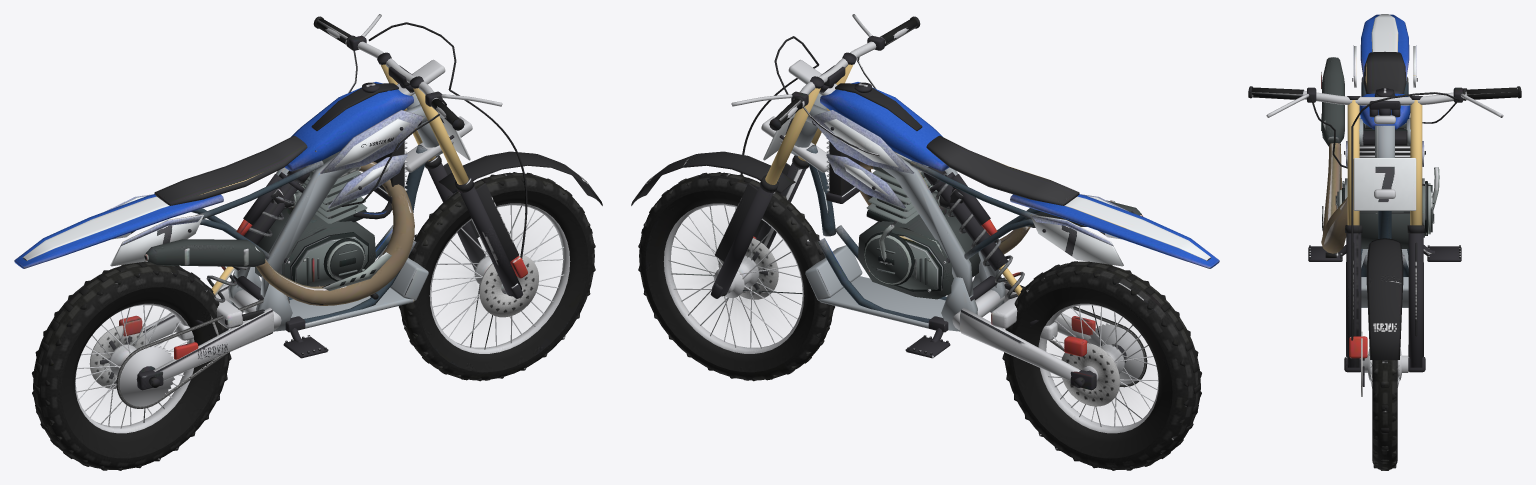
Rendered from bike.glb.
3 views of the same model, side by side, from view 1: azimuth 30°, elevation 25°; view 2: azimuth 150°, elevation 25°; view 3: azimuth 270°, elevation 25° (orthographic). The views are drawn at different scales.
Parts seen in each view (by area): view 1: wheel_rear, bodywork, wheel_front, frame, exhaust, engine, fork_lower, swingarm, fork_upper, handlebar, sprocket_rear, shock_body (+7 smaller); view 2: wheel_rear, bodywork, wheel_front, frame, engine, fork_lower, swingarm, fork_upper, handlebar, wheel_front_blur, wheel_front_spokes, shock_body (+6 smaller); view 3: fork_lower, fork_upper, bodywork, handlebar, exhaust, wheel_front, frame, engine, pegs, brake_hose.
Boxes of the visible parts, <box> form: wheel_rear: <box>32,261,231,470</box>; bodywork: <box>14,82,424,268</box>; wheel_front: <box>398,172,595,381</box>; frame: <box>191,93,442,332</box>; exhaust: <box>144,161,414,305</box>; engine: <box>255,150,378,299</box>; fork_lower: <box>425,151,602,298</box>; swingarm: <box>119,281,281,390</box>; fork_upper: <box>377,52,472,184</box>; handlebar: <box>313,14,502,206</box>; sprocket_rear: <box>117,345,174,406</box>; shock_body: <box>232,167,310,270</box>; wheel_rear: <box>1002,261,1201,470</box>; bodywork: <box>809,82,1219,268</box>; wheel_front: <box>638,172,835,381</box>; frame: <box>791,93,1042,332</box>; engine: <box>858,151,980,299</box>; fork_lower: <box>631,151,808,298</box>; swingarm: <box>952,282,1096,390</box>; fork_upper: <box>761,52,856,184</box>; handlebar: <box>731,14,920,235</box>; wheel_front_blur: <box>695,232,777,321</box>; wheel_front_spokes: <box>668,205,802,348</box>; shock_body: <box>923,167,1007,270</box>; fork_lower: <box>1344,225,1425,372</box>; fork_upper: <box>1347,96,1422,225</box>; bodywork: <box>1344,14,1425,166</box>; handlebar: <box>1248,86,1521,185</box>; exhaust: <box>1321,57,1360,253</box>; wheel_front: <box>1361,331,1408,470</box>; frame: <box>1359,77,1410,307</box>; engine: <box>1325,123,1439,257</box>; pegs: <box>1308,245,1461,261</box>; brake_hose: <box>1351,127,1353,340</box>.
Bounding box in the file's own units: 2.06 × 1.2 × 0.8752.
4 materials, 4 textured.
